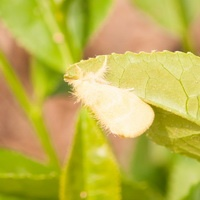insect: (64, 55, 153, 136)
